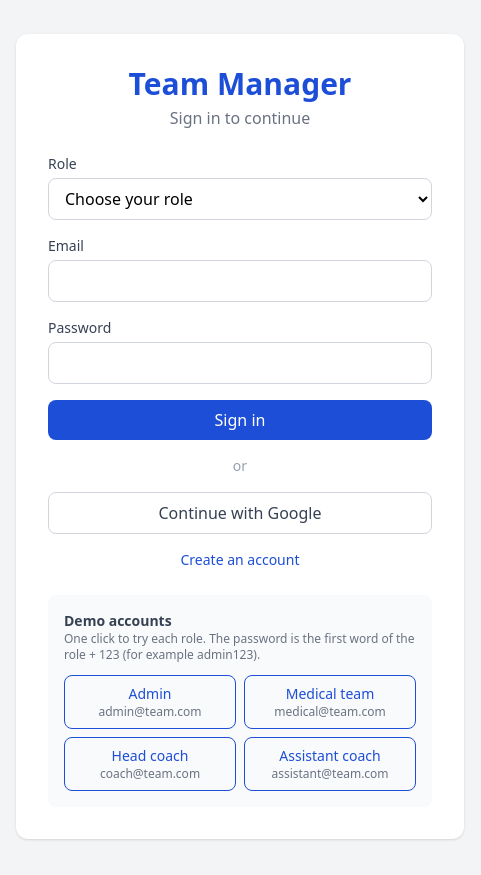
it: shows an error if the demo login fails
Click the button "Admin admin@team.com" at (150, 702), box left=64, top=674, right=236, bottom=728
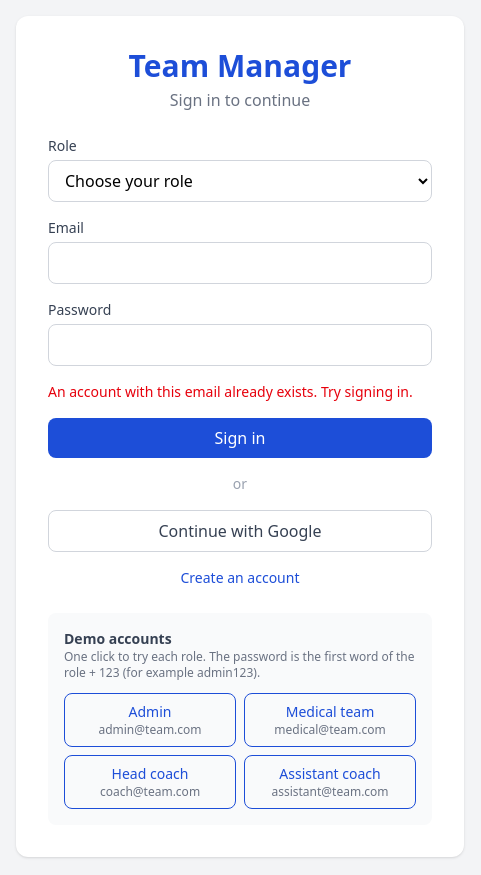
Result: the text "An account with this email already exists. Try signing in." is shown at left=48, top=382, right=432, bottom=402
